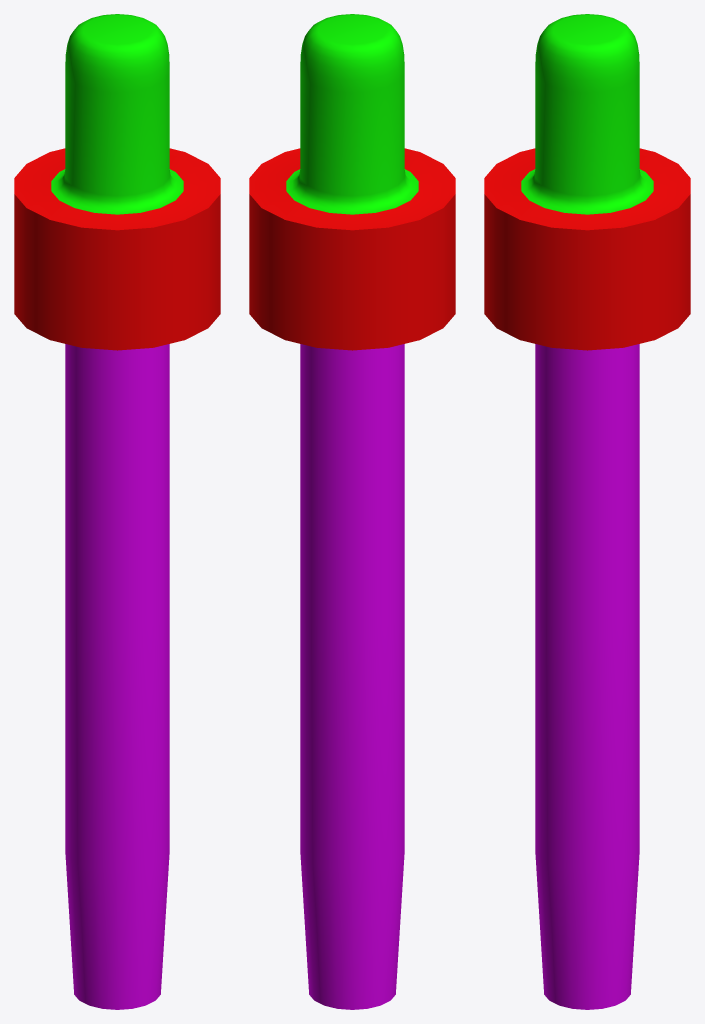
File: 2 ML Top.FBX
3 views of the same model, side by side, from view 1: azimuth 30°, elevation 25°; view 2: azimuth 150°, elevation 25°; view 3: azimuth 270°, elevation 25° (orthographic).
Visible parts, largest first — view 1: 2_ML_Bottle_Top; view 2: 2_ML_Bottle_Top; view 3: 2_ML_Bottle_Top.
Boxes of the visible parts, <box> form: 2_ML_Bottle_Top: <box>14,14,220,1009</box>; 2_ML_Bottle_Top: <box>249,14,455,1009</box>; 2_ML_Bottle_Top: <box>484,14,690,1009</box>.
Bounding box in the file's own units: 1.48 × 7.5 × 1.46.
